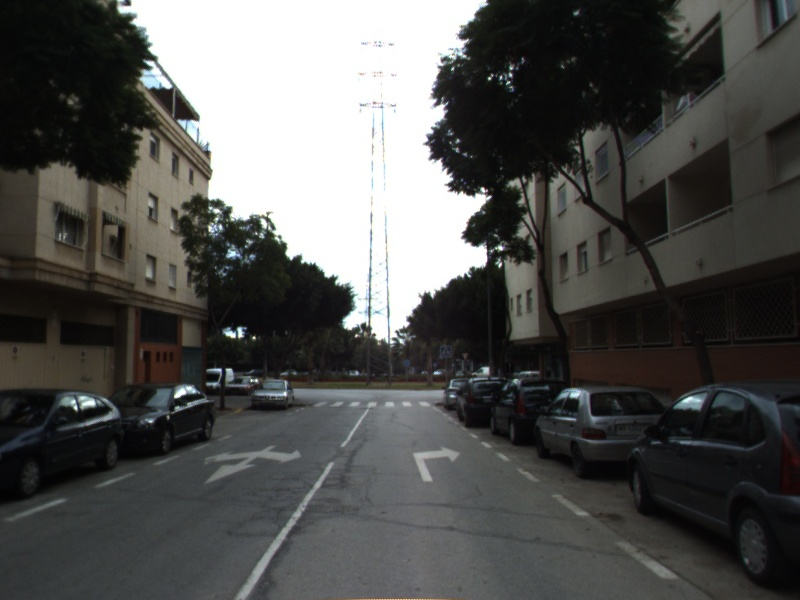RIGHT: (411, 445, 462, 484)
